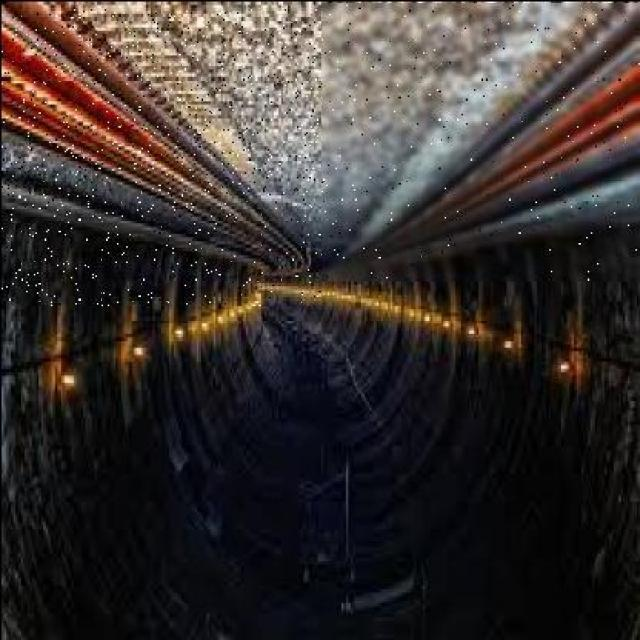rail: (1, 9, 321, 305), (321, 3, 639, 281)
